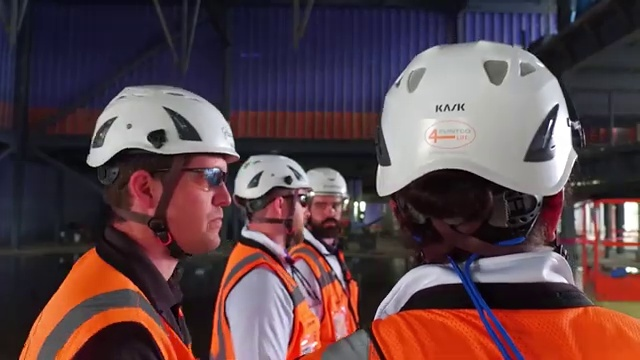helmet: (375, 33, 598, 202), (82, 82, 238, 166), (232, 152, 318, 191), (306, 169, 352, 198)
jacket: (24, 241, 196, 360), (359, 308, 640, 360), (214, 235, 329, 360), (304, 236, 361, 359)
